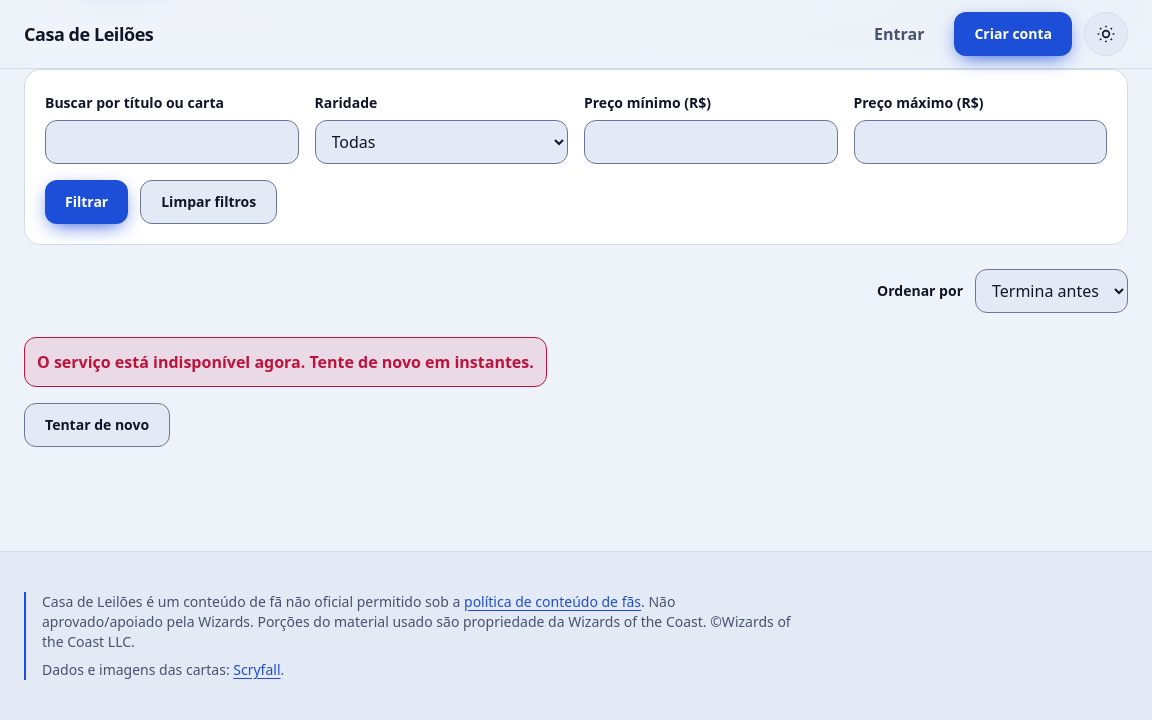
Scenario: / (vitrine) › falha da consulta mostra a mensagem do código e "Tentar de novo" refaz a consulta
This screenshot has width=1152, height=720.
(page scrolled)
Check: the message reads "O serviço está indisponível agora. Tente de novo em instantes.", box [37,350,534,372]
Click the button "Tentar de novo": (97, 424) [24,402,170,446]
(page scrolled)
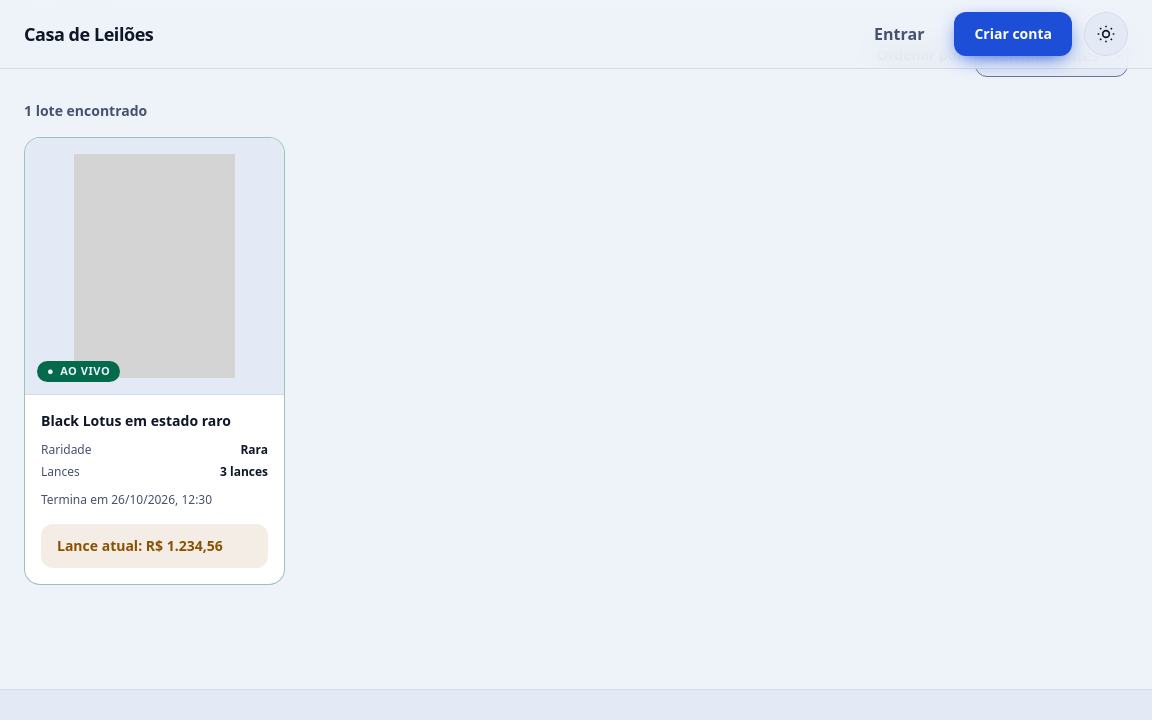
Check: the list item is shown, box [24,136,285,585]
Check: the message "O serviço está indisponível agora. Tente de novo em instantes." is gone
